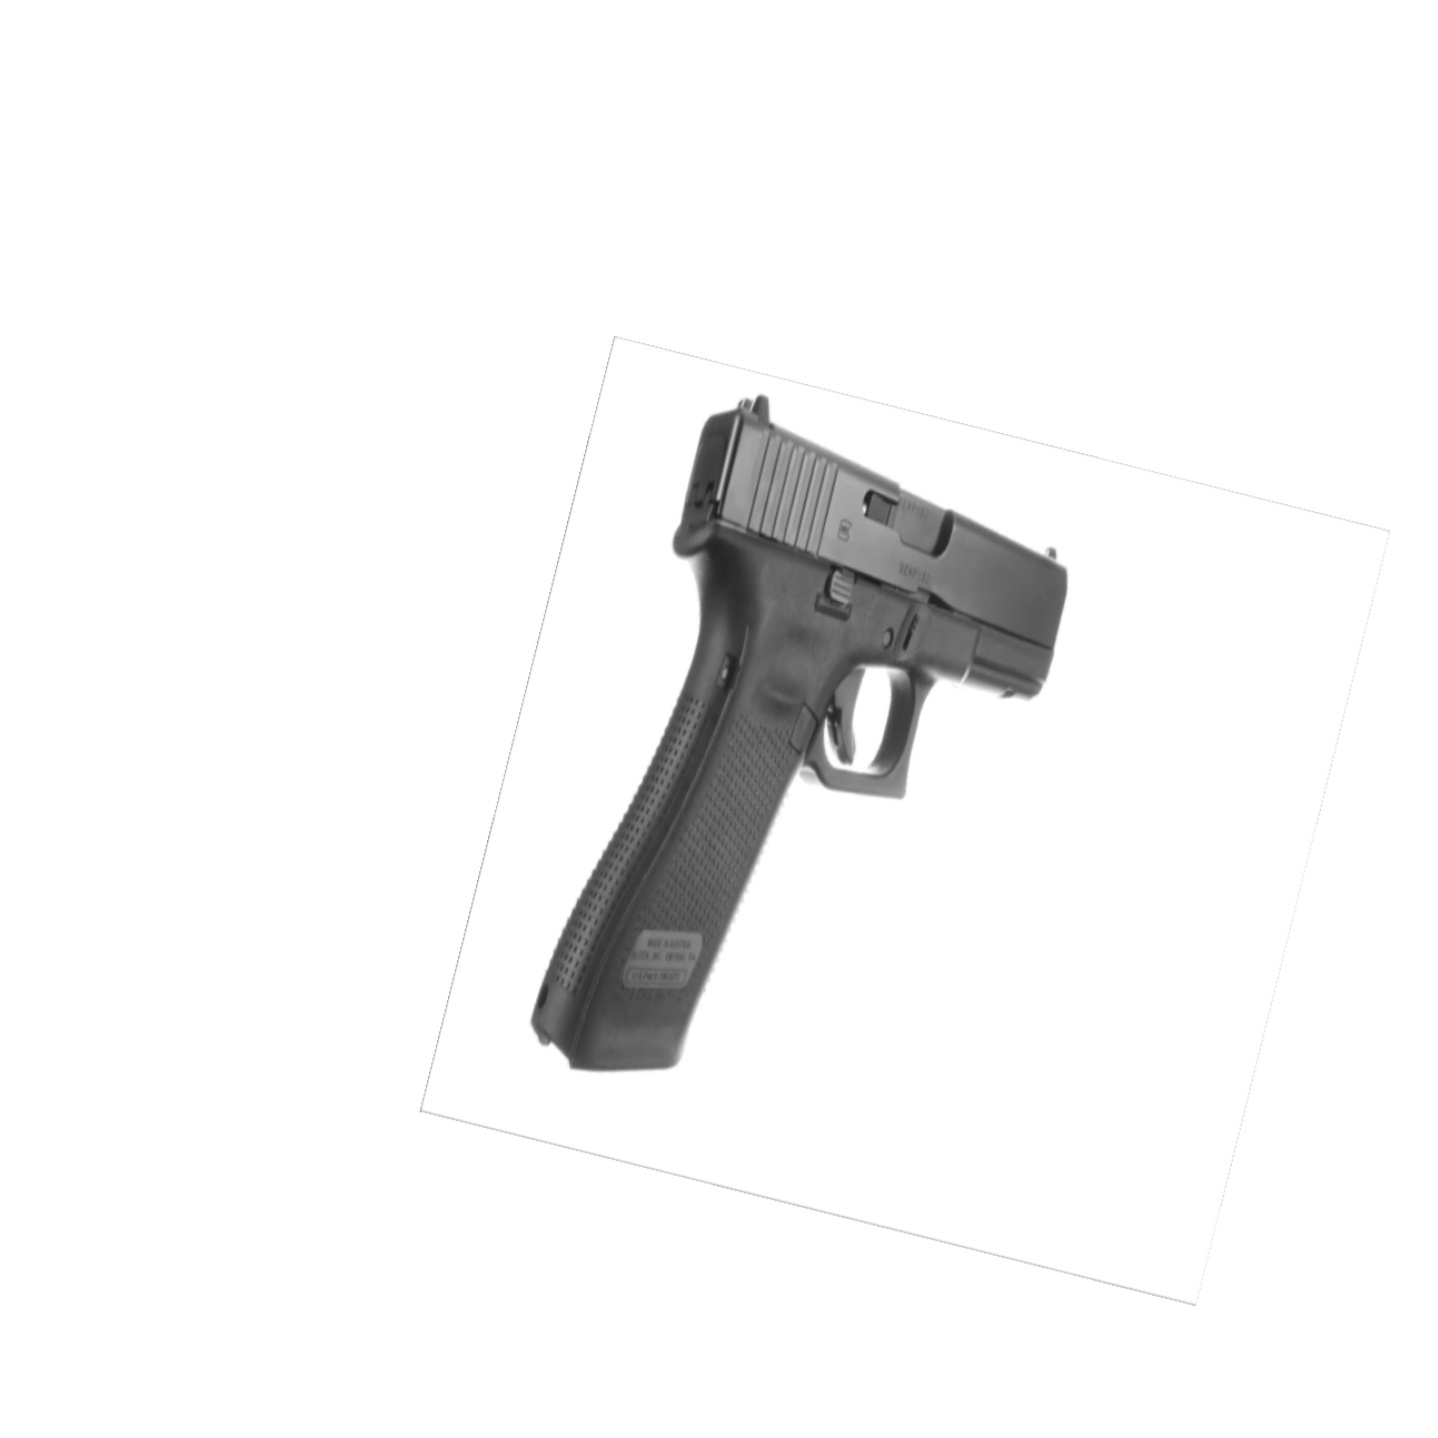gun: (518, 386, 1082, 1084)
